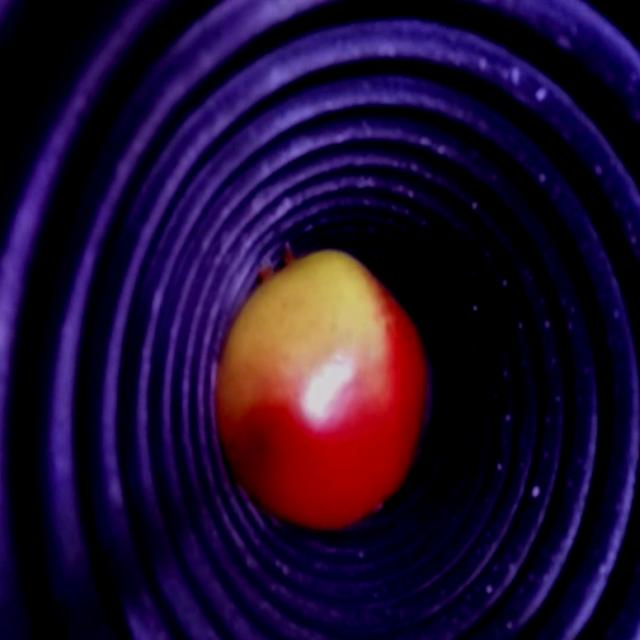obstacles: (212, 255, 426, 539)
